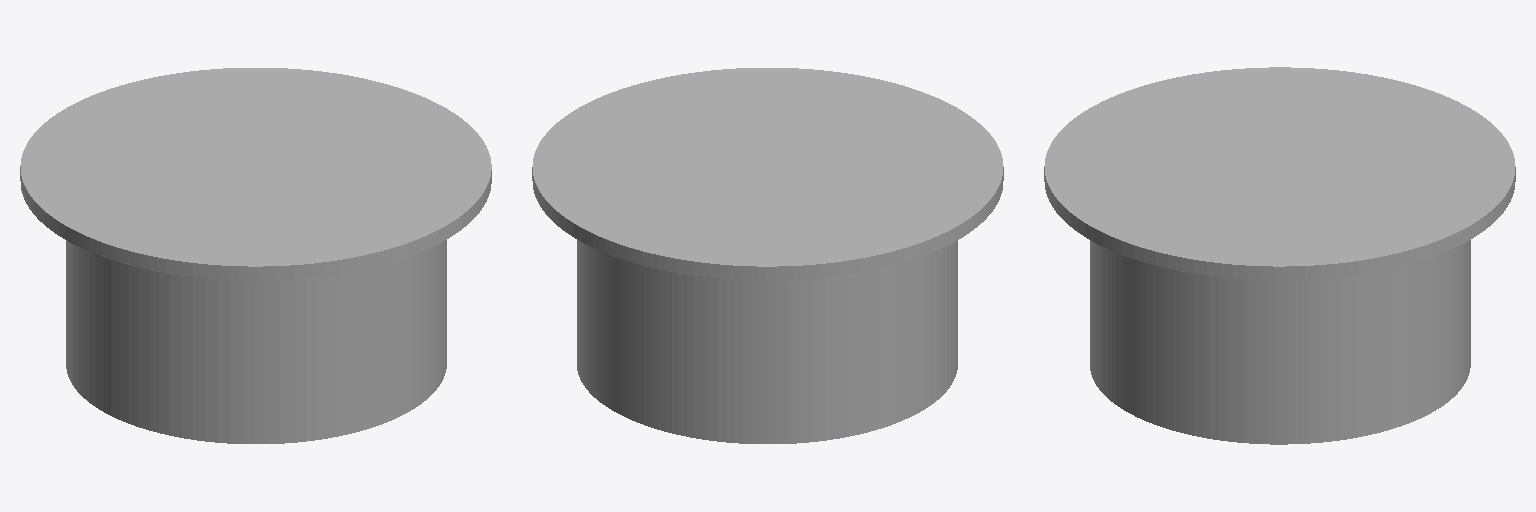
robot.urdf — kuka_kr210:
<?xml version="1.0" ?>
<!-- =================================================================================== -->
<!-- |    This document was autogenerated by xacro from kr210l150.xacro                | -->
<!-- |    EDITING THIS FILE BY HAND IS NOT RECOMMENDED                                 | -->
<!-- =================================================================================== -->
<!--Generates a urdf from the macro in kr210_macro.xacro -->
<robot name="kuka_kr210" xmlns:xacro="http://wiki.ros.org/xacro">
  <link name="base_link">
    <inertial>
      <origin rpy="0 0 0" xyz="-0.027804 0.00039112 0.14035"/>
      <mass value="1572.9"/>
      <inertia ixx="89.282" ixy="-0.47721" ixz="0.85562" iyy="107.51" iyz="0.0067576" izz="172.02"/>
    </inertial>
    <visual>
      <origin rpy="-1.570796327 0 0" xyz="0 0 0"/>
      <geometry>
        <mesh filename="visuals/meshes/Base.dae" />
      </geometry>
      <material name="">
        <color rgba="0.75294 0.75294 0.75294 1"/>
      </material>
    </visual>
    <collision>
      <origin rpy="-1.570796327 0 0" xyz="0 0 0"/>
      <geometry>
        <mesh filename="visuals/stl/Base.stl"/>
      </geometry>
    </collision>
  </link>
  <!-- <link name="link_1">
    <inertial>
      <origin rpy="0 0 0" xyz="-0.036811 -0.024697 0.56577"/>
      <mass value="1385.5"/>
      <inertia ixx="90.873" ixy="33.809" ixz="17.159" iyy="147.03" iyz="0.063634" izz="168.19"/>
    </inertial>
    <visual>
      <origin rpy="0 0 0" xyz="0 0 0"/>
      <geometry>
        <mesh filename="package://kuka_kr210_support/meshes/kr210l150/visual/link_1.dae"/>
      </geometry>
      <material name="">
        <color rgba="0.75294 0.75294 0.75294 1"/>
      </material>
    </visual>
    <collision>
      <origin rpy="0 0 0" xyz="0 0 0"/>
      <geometry>
        <mesh filename="package://kuka_kr210_support/meshes/kr210l150/collision/link_1.stl"/>
      </geometry>
    </collision>
  </link>
  <link name="link_2">
    <inertial>
      <origin rpy="0 0 0" xyz="0.016923 -0.19196 0.44751"/>
      <mass value="958.62"/>
      <inertia ixx="180.42" ixy="-0.83462" ixz="0.32549" iyy="177.68" iyz="-20.82" izz="20.495"/>
    </inertial>
    <visual>
      <origin rpy="-1.570796327 0 0" xyz="0 0 0"/>
      <geometry>
        <mesh filename="package://kuka_kr210_support/meshes/kr210l150/visual/link_2.dae"/>
      </geometry>
      <material name="">
        <color rgba="0.75294 0.75294 0.75294 1"/>
      </material>
    </visual>
    <collision>
      <origin rpy="0 0 0" xyz="0 0 0"/>
      <geometry>
        <mesh filename="package://kuka_kr210_support/meshes/kr210l150/collision/link_2.stl"/>
      </geometry>
    </collision>
  </link>
  <link name="link_3">
    <inertial>
      <origin rpy="0 0 0" xyz="0.18842 0.18344 -0.042799"/>
      <mass value="710.03"/>
      <inertia ixx="11.887" ixy="-0.12154" ixz="-1.3604" iyy="98.805" iyz="-0.056505" izz="96.251"/>
    </inertial>
    <visual>
      <origin rpy="-1.570796327 0 0" xyz="0 0 0"/>
      <geometry>
        <mesh filename="package://kuka_kr210_support/meshes/kr210l150/visual/link_3.dae"/>
      </geometry>
      <material name="">
        <color rgba="0.75294 0.75294 0.75294 1"/>
      </material>
    </visual>
    <collision>
      <origin rpy="0 0 0" xyz="0 0 0"/>
      <geometry>
        <mesh filename="package://kuka_kr210_support/meshes/kr210l150/collision/link_3.stl"/>
      </geometry>
    </collision>
  </link>
  <link name="link_4">
    <inertial>
      <origin rpy="0 0 0" xyz="0.27146 -0.007326 5.2775E-05"/>
      <mass value="173.73"/>
      <inertia ixx="1.8001" ixy="-0.18515" ixz="0.00051232" iyy="5.514" iyz="0.00070469" izz="6.3498"/>
    </inertial>
    <visual>
      <origin rpy="-1.570796327 0 0" xyz="0 0 0"/>
      <geometry>
        <mesh filename="package://kuka_kr210_support/meshes/kr210l150/visual/link_4.dae"/>
      </geometry>
      <material name="">
        <color rgba="0.75294 0.75294 0.75294 1"/>
      </material>
    </visual>
    <collision>
      <origin rpy="0 0 0" xyz="0 0 0"/>
      <geometry>
        <mesh filename="package://kuka_kr210_support/meshes/kr210l150/collision/link_4.stl"/>
      </geometry>
    </collision>
  </link>
  <link name="link_5">
    <inertial>
      <origin rpy="0 0 0" xyz="0.04379 0.025984 3.5491E-07"/>
      <mass value="72.17"/>
      <inertia ixx="0.3938" ixy="-0.085332" ixz="1.7223E-06" iyy="0.68945" iyz="-7.0292E-06" izz="0.67292"/>
    </inertial>
    <visual>
      <origin rpy="-1.570796327 0 0" xyz="0 0 0"/>
      <geometry>
        <mesh filename="package://kuka_kr210_support/meshes/kr210l150/visual/link_5.dae"/>
      </geometry>
      <material name="">
        <color rgba="0.75294 0.75294 0.75294 1"/>
      </material>
    </visual>
    <collision>
      <origin rpy="0 0 0" xyz="0 0 0"/>
      <geometry>
        <mesh filename="package://kuka_kr210_support/meshes/kr210l150/collision/link_5.stl"/>
      </geometry>
    </collision>
  </link>
  <link name="link_6">
    <inertial>
      <origin rpy="0 0 0" xyz="-0.017956 -1.5237E-05 0.00015484"/>
      <mass value="6.3154"/>
      <inertia ixx="0.031746" ixy="1.7673E-07" ixz="-6.6558E-06" iyy="0.016686" iyz="1.4304E-07" izz="0.016723"/>
    </inertial>
    <visual>
      <origin rpy="0 0 0" xyz="0 0 0"/>
      <geometry>
        <mesh filename="package://kuka_kr210_support/meshes/kr210l150/visual/link_6.dae"/>
      </geometry>
      <material name="">
        <color rgba="0.75294 0.75294 0.75294 1"/>
      </material>
    </visual>
    <collision>
      <origin rpy="0 0 0" xyz="0 0 0"/>
      <geometry>
        <mesh filename="package://kuka_kr210_support/meshes/kr210l150/collision/link_6.stl"/>
      </geometry>
    </collision>
  </link>
  <link name="tool0"/>
  <joint name="joint_a1" type="revolute">
    <origin rpy="0 0 0" xyz="-0.00262 0.00097586 0.33099"/>
    <parent link="base_link"/>
    <child link="link_1"/>
    <axis xyz="0 0 1"/>
    <limit effort="0" lower="-3.228859205" upper="3.228859205" velocity="2.146755039"/>
  </joint>
  <joint name="joint_a2" type="revolute">
    <origin rpy="0 0 0" xyz="0.35277 -0.037476 0.4192"/>
    <parent link="link_1"/>
    <child link="link_2"/>
    <axis xyz="0 1 0"/>
    <limit effort="0" lower="-0.785398185" upper="1.483529905" velocity="2.007128695"/>
  </joint>
  <joint name="joint_a3" type="revolute">
    <origin rpy="0 0 0" xyz="-9.8483E-05 -0.1475 1.2499"/>
    <parent link="link_2"/>
    <child link="link_3"/>
    <axis xyz="0 1 0"/>
    <limit effort="0" lower="-3.66519153" upper="1.134464045" velocity="1.954768816"/>
  </joint>
  <joint name="joint_a4" type="revolute">
    <origin rpy="0 0 0" xyz="0.95795 0.184 -0.055059"/>
    <parent link="link_3"/>
    <child link="link_4"/>
    <axis xyz="1 0 0"/>
    <limit effort="0" lower="-6.10865255" upper="6.10865255" velocity="3.124139447"/>
  </joint>
  <joint name="joint_a5" type="revolute">
    <origin rpy="0 0 0" xyz="0.542 0 0"/>
    <parent link="link_4"/>
    <child link="link_5"/>
    <axis xyz="0 1 0"/>
    <limit effort="0" lower="-2.181661625" upper="2.181661625" velocity="3.001966396"/>
  </joint>
  <joint name="joint_a6" type="revolute">
    <origin rpy="0 0 0" xyz="0.1925 0 0"/>
    <parent link="link_5"/>
    <child link="link_6"/>
    <axis xyz="1 0 0"/>
    <limit effort="0" lower="-6.10865255" upper="6.10865255" velocity="3.822271167"/>
  </joint>
  <joint name="link_6-tool0" type="fixed">
    <parent link="link_6"/>
    <child link="tool0"/>
    <origin rpy="0 0 0" xyz="0.0375 0 -0.00023924"/>
  </joint>
  <link name="Link1"/>
  <joint name="Link1-link_1" type="fixed">
    <parent link="link_1"/>
    <child link="Link1"/>
    <origin rpy="0 0 0" xyz="0 0 0"/>
  </joint> -->
</robot>

--- Facts derived from the render (not from the file) ---
The picture shows the robot from 3 angles, left to right: view 1: azimuth 30°, elevation 25°; view 2: azimuth 150°, elevation 25°; view 3: azimuth 270°, elevation 25°; orthographic projection.
Robot: kuka_kr210 — 1 links, 0 joints (none); root link base_link; default pose: every joint at zero.
Visible links, largest first — view 1: base_link; view 2: base_link; view 3: base_link.
Boxes of the visible links, box(x1,y1,x2,y2) form: base_link: box(20, 68, 491, 443); base_link: box(532, 68, 1003, 443); base_link: box(1044, 67, 1515, 444).
Bounding box of the posed robot: 1.21 × 1.21 × 0.56 m (x, y, z).
1 mesh visuals loaded from 1 distinct referenced files (1 Collada DAE).